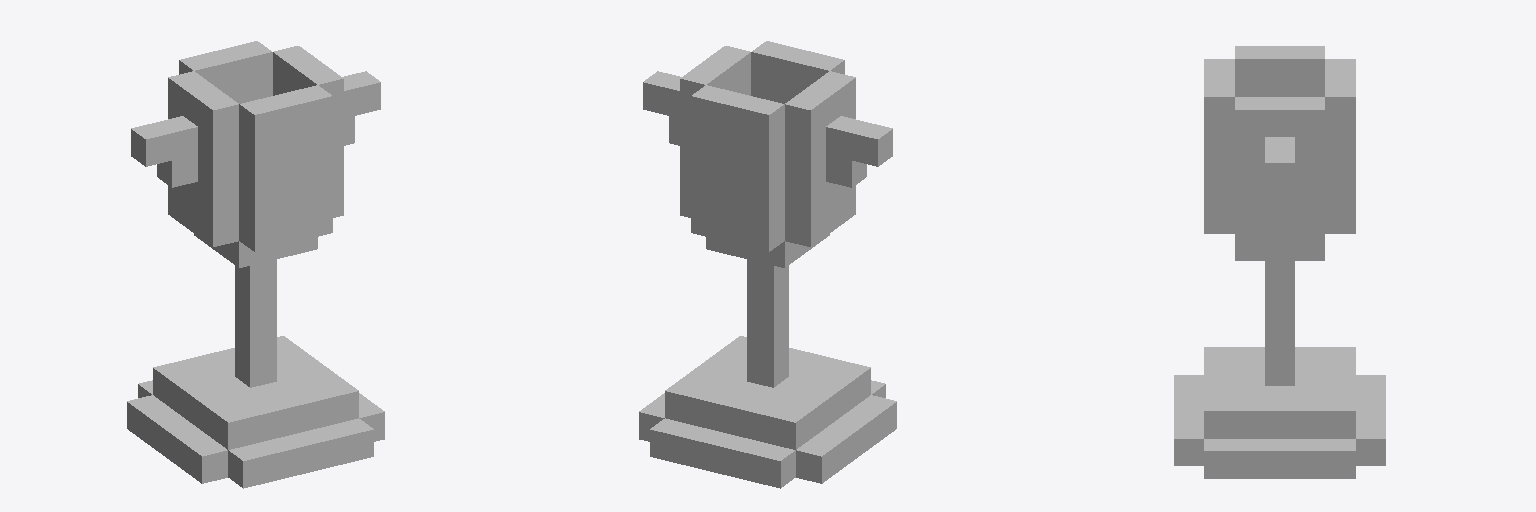
File: throphy emerald A.obj
The picture shows the model from 3 angles: view 1: azimuth 30°, elevation 25°; view 2: azimuth 150°, elevation 25°; view 3: azimuth 270°, elevation 25°; orthographic projection.
Visible parts, largest first — view 1: throphy A; view 2: throphy A; view 3: throphy A.
Part boxes in pixels (x1,y1,x2,y2): throphy A: (127,41,384,488); throphy A: (639,41,896,488); throphy A: (1174,46,1385,478).
Bounding box in the file's own units: 9 × 13 × 7.